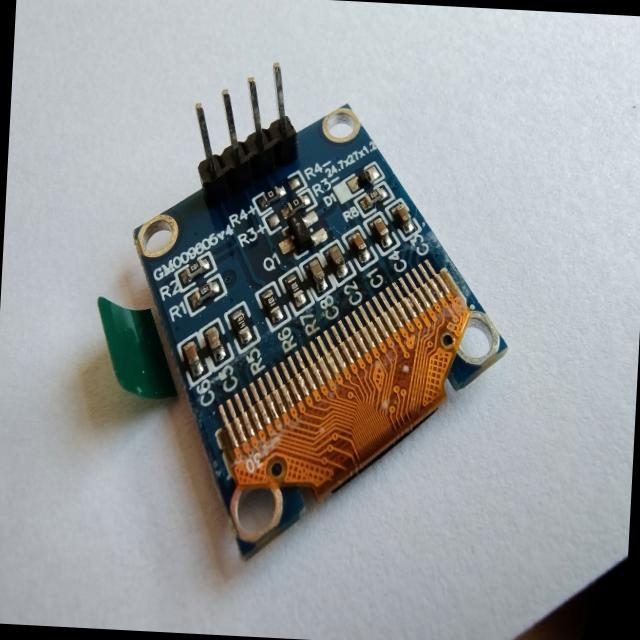oled: (80, 36, 535, 582)
